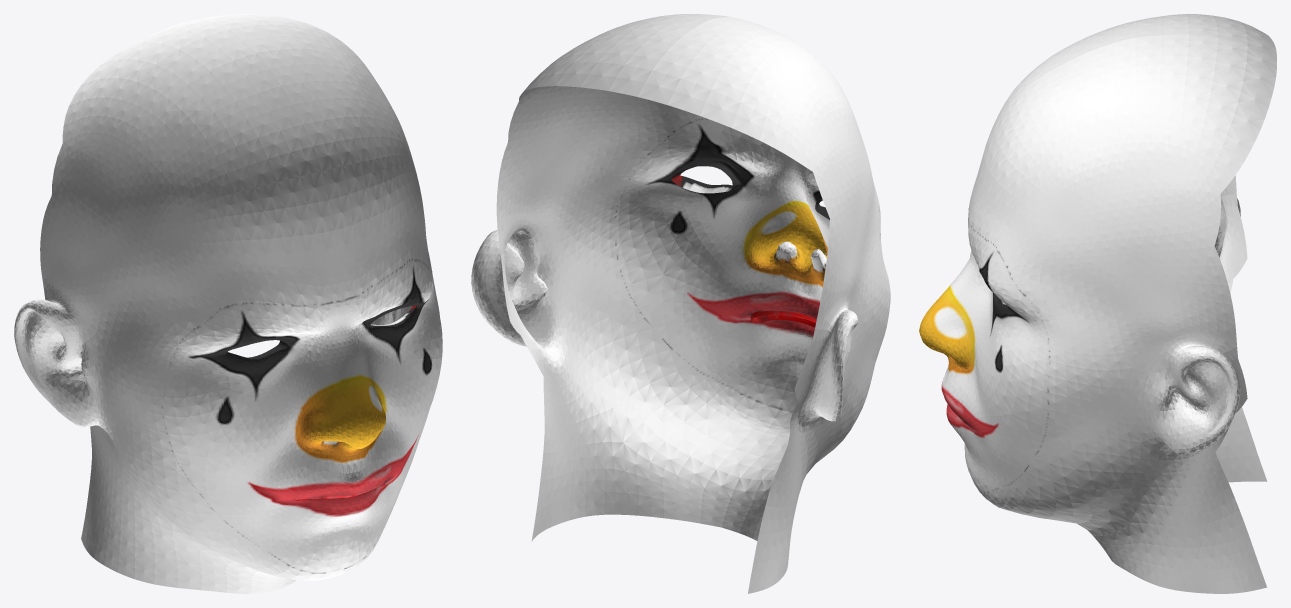
The model's file is ar_demo3_ex.obj.
The picture shows the model from 3 angles, left to right: view 1: azimuth 30°, elevation 25°; view 2: azimuth 150°, elevation 25°; view 3: azimuth 270°, elevation 25°; orthographic projection. The views are drawn at different scales.
Parts seen in each view (by area): view 1: ar_demo3_ex; view 2: ar_demo3_ex; view 3: ar_demo3_ex.
Boxes of the visible parts, x1=… form: ar_demo3_ex: x1=14, y1=14, x2=442, y2=593; ar_demo3_ex: x1=471, y1=14, x2=890, y2=593; ar_demo3_ex: x1=919, y1=14, x2=1276, y2=593.
Size of the model in its own units: 177 by 236 by 148.
1 material, 1 textured.
